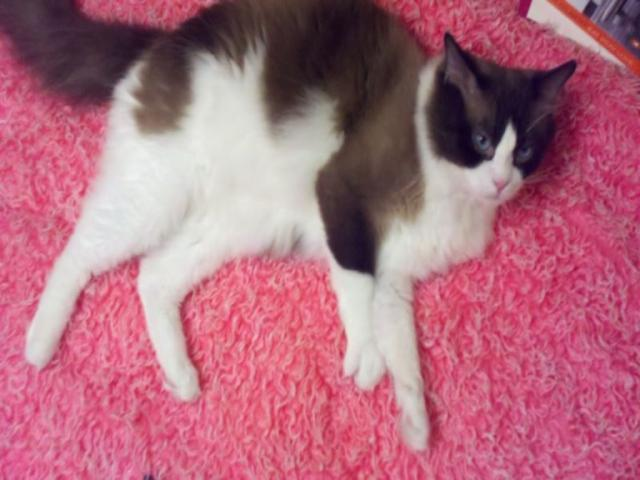Cat: (0, 0, 579, 458)
